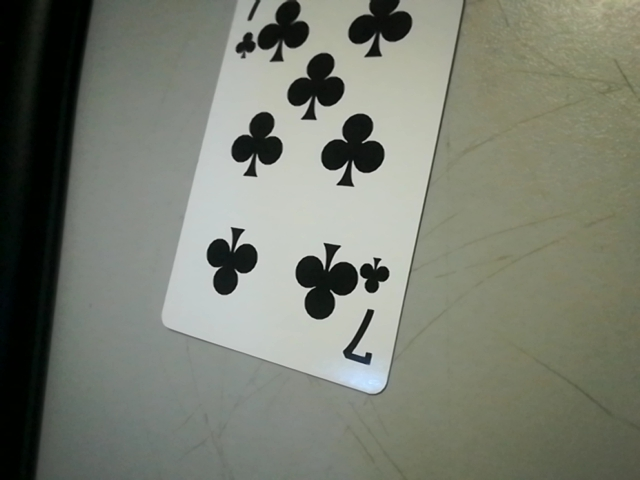mh 7: (342, 259, 393, 381)
